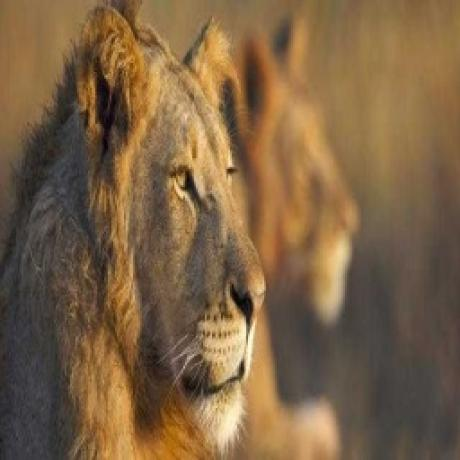Lion: (0, 0, 270, 460)
